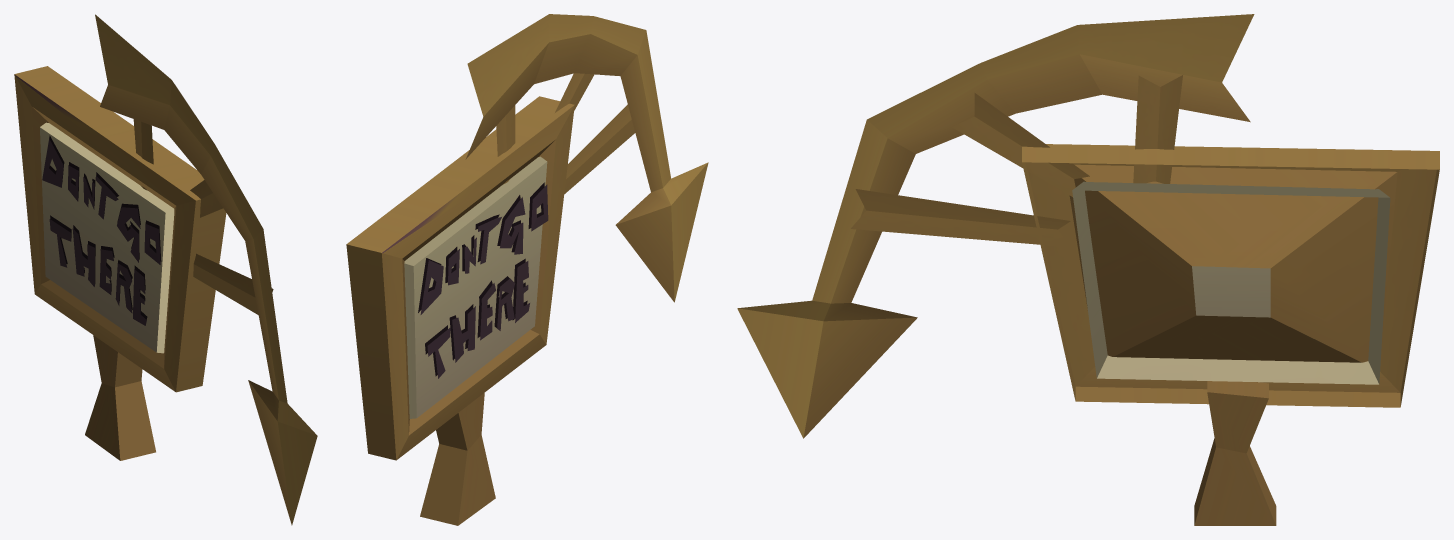
The model's file is SM_Sign_A.fbx.
The picture shows the model from 3 angles, left to right: view 1: azimuth 30°, elevation 25°; view 2: azimuth 150°, elevation 25°; view 3: azimuth 270°, elevation 25°; orthographic projection. The views are drawn at different scales.
Parts seen in each view (by area): view 1: SM_Sign; view 2: SM_Sign; view 3: SM_Sign.
Part boxes in pixels (bbox=[...]): SM_Sign: bbox=[14, 14, 317, 525]; SM_Sign: bbox=[346, 14, 708, 525]; SM_Sign: bbox=[737, 14, 1439, 525].
Bounding box in the file's own units: 33.46 × 376 × 291.
